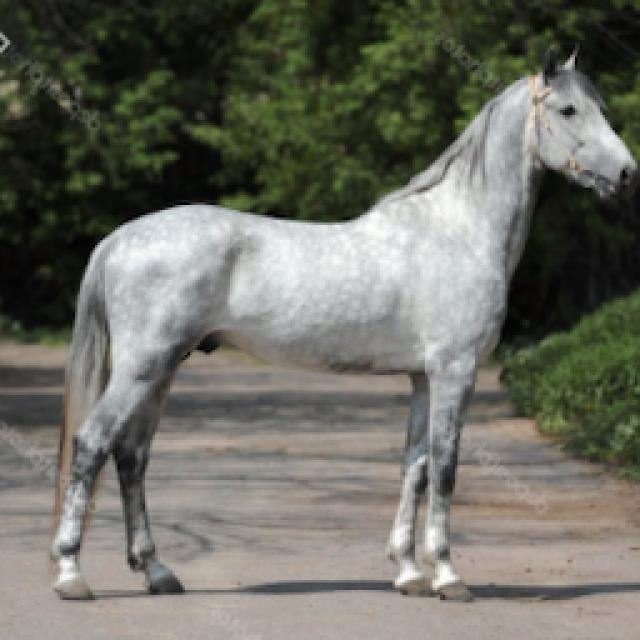Horse: (40, 40, 640, 608)
